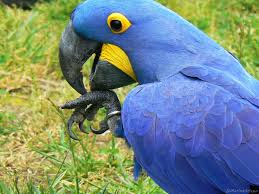guacamaya: (57, 1, 259, 191)
